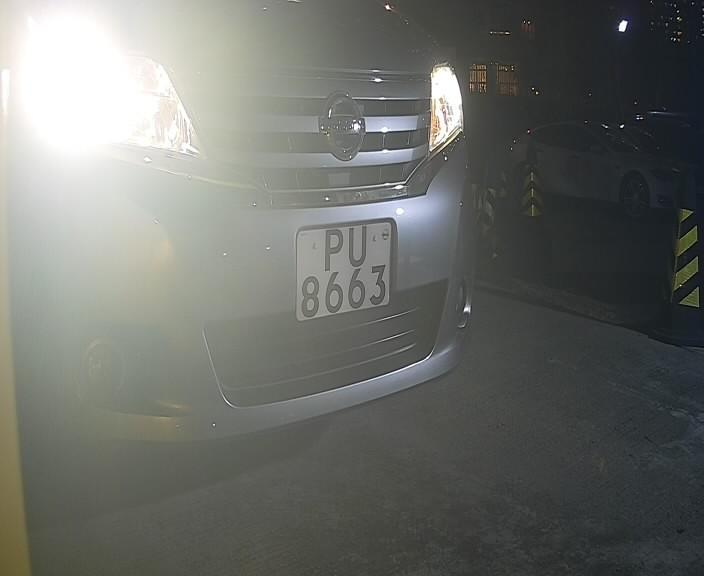Car: (10, 8, 566, 492)
License Plate: (290, 201, 400, 335)
